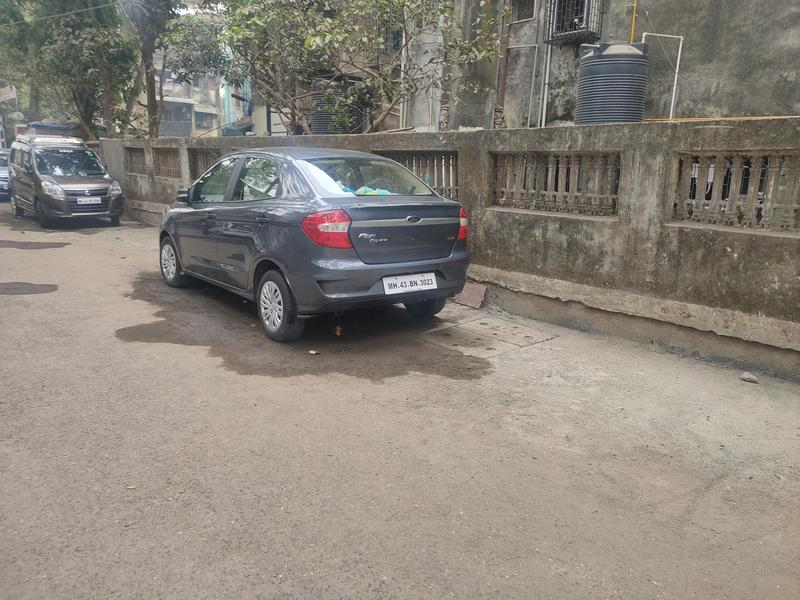license_plate: (378, 267, 445, 304)
